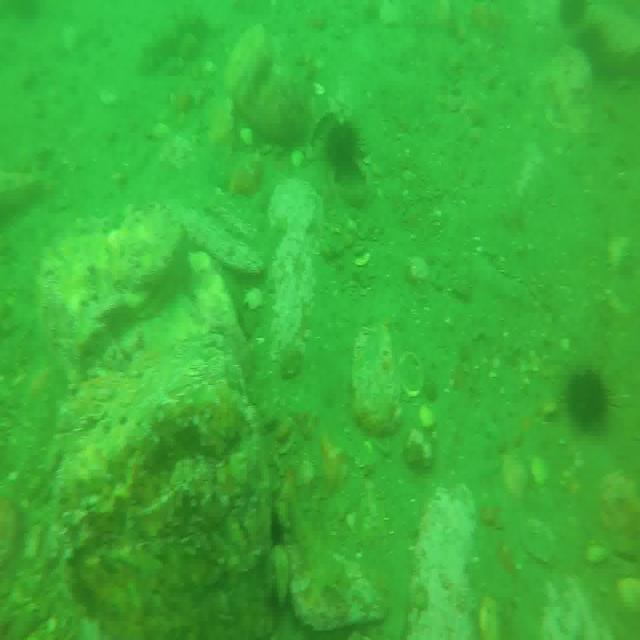echinus: (565, 366, 609, 433), (326, 120, 362, 175)
